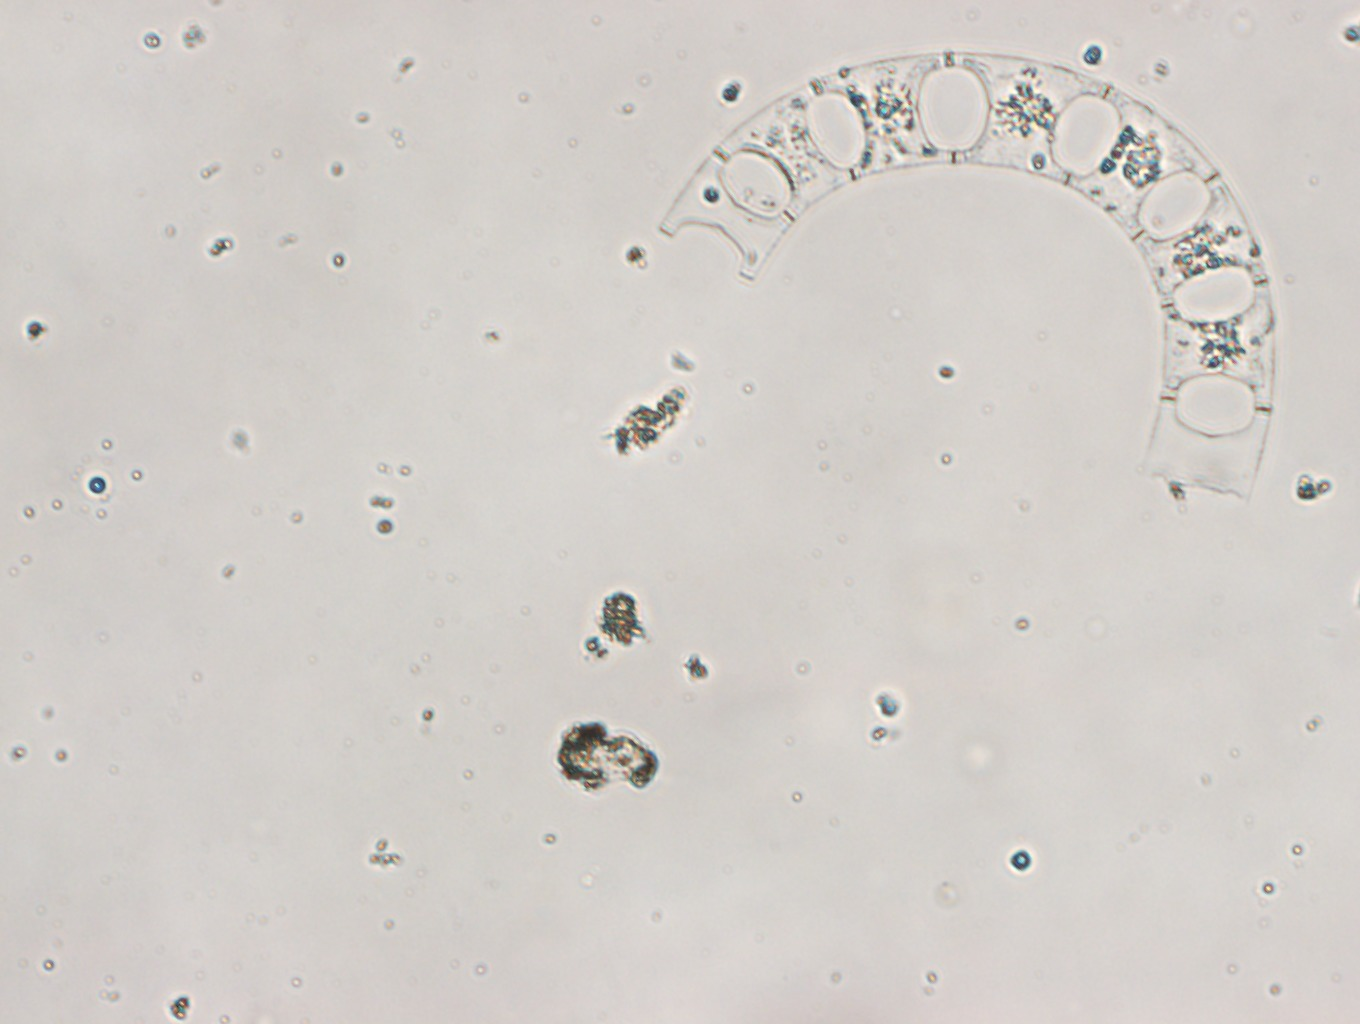eucampia: (646, 43, 1286, 506)
